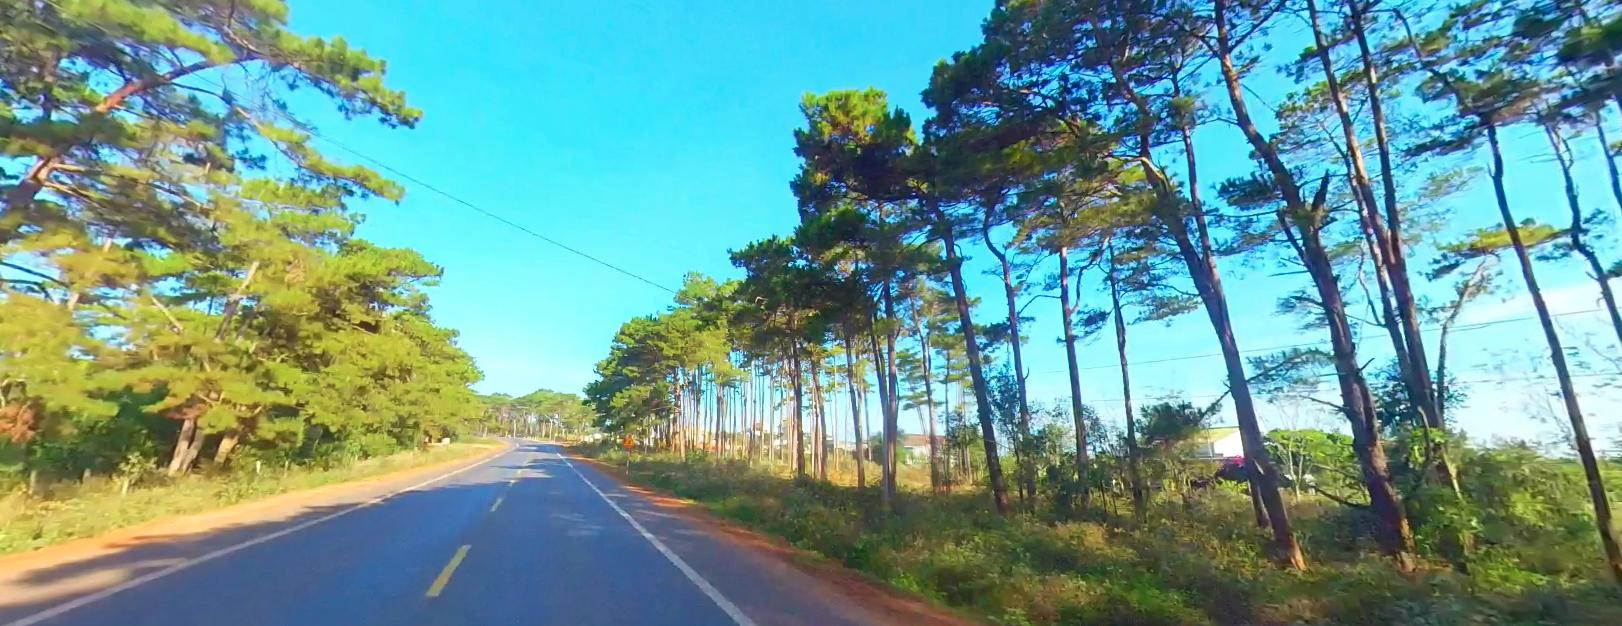Nguy hiem: (622, 434, 634, 445)
